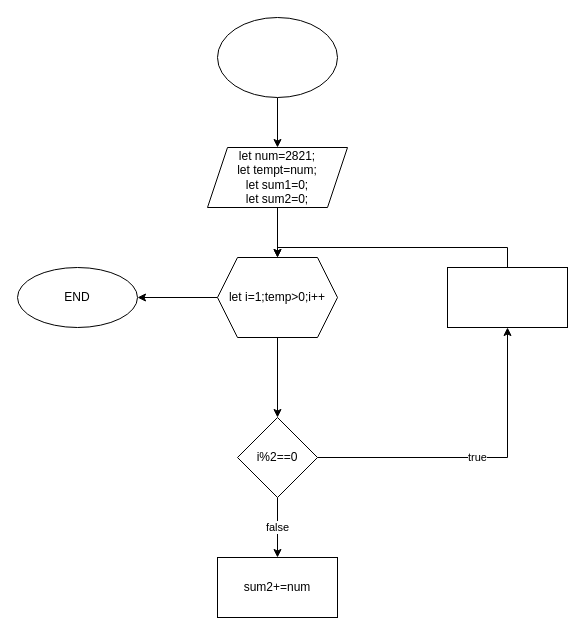
Some shapes in this 585 by 635 pixel diagram are drawn without their labels. The shapes that lost their labels are listed below. From the top down, each one's centre as x and y in pixels, then its label:
At pixel 277 57: "Start".
At pixel 507 297: "sum1+=num i++".
